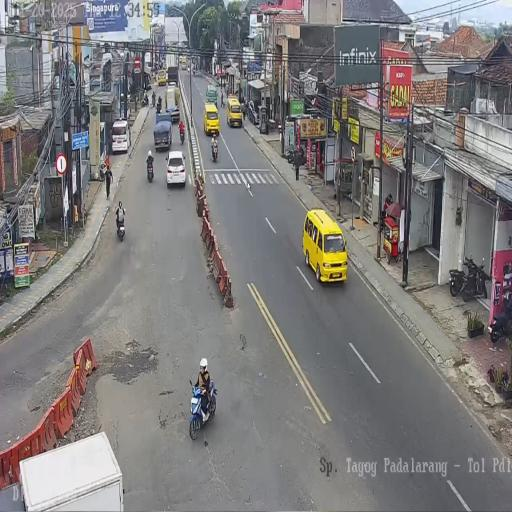3: (166, 52, 178, 72)
car: (302, 208, 346, 284), (166, 150, 186, 188), (111, 118, 130, 155), (154, 113, 172, 151), (202, 100, 220, 136), (165, 85, 180, 122), (226, 98, 242, 128), (247, 100, 259, 124), (206, 84, 218, 106), (157, 69, 167, 86), (179, 56, 187, 70), (168, 80, 177, 88)
truck: (188, 378, 218, 442), (461, 255, 488, 301), (489, 292, 511, 342), (449, 268, 465, 296), (116, 210, 126, 242), (146, 156, 155, 182), (211, 136, 218, 162), (179, 124, 185, 144), (141, 94, 149, 107), (151, 90, 156, 108), (242, 102, 247, 120), (156, 100, 162, 114), (192, 65, 195, 74)
